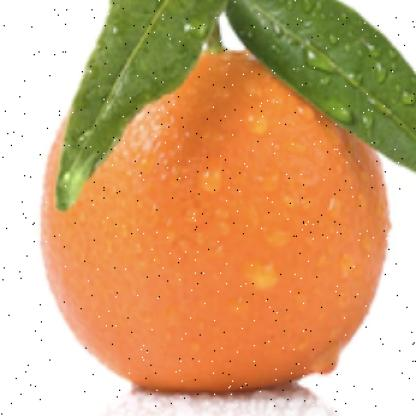fresh: (41, 43, 390, 390)
